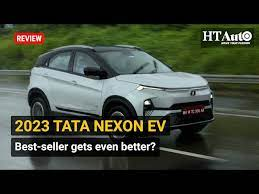Tata Nexon: (27, 43, 219, 145)
